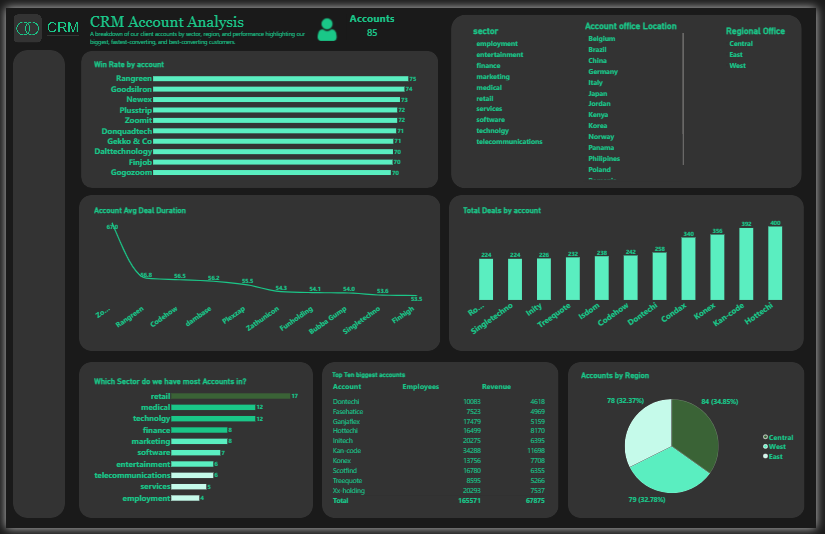

Layout of this report page (visuals, bound fields, positions):
{"tool":"powerbi","page":{"name":"CRM Account Analysis","canvas":[6225,4000],"ordinal":1},"visuals":[{"type":"shape","box":[50,320,400,3600],"z":0},{"type":"textbox","box":[645,35,1715,280],"z":1000},{"type":"shape","box":[560,2720,1800,1200],"z":2000},{"type":"shape","box":[3410,1440,2730,1200],"z":3000},{"type":"image","box":[45,0,555,315],"z":4000},{"type":"shape","box":[560,1440,2780,1200],"z":5000},{"type":"shape","box":[2430,2720,1820,1200],"z":6000},{"type":"shape","box":[4320,2720,1820,1200],"z":7000},{"type":"shape","box":[560,315,2780,1085],"z":8000},{"type":"actionButton","box":[2360,35,260,215],"z":9000},{"type":"cardVisual","fields":{"Data":["crmsalesopportunities crmeqsales_pipeline.Total Accounts"]},"box":[2620,0,385,255],"z":10000},{"type":"barChart","title":"Which Sector do we have most Accounts in?","fields":{"Category":["crmsalesopportunities crmeqaccount.sector"],"Y":["crmsalesopportunities crmeqsales_pipeline.Total Accounts"]},"box":[660,2820,1600,1020],"z":11000},{"type":"tableEx","title":"Top Ten biggest accounts","fields":{"Values":["crmsalesopportunities crmeqaccount.account","crmsalesopportunities crmeqaccount.employees","crmsalesopportunities crmeqaccount.revenue"]},"box":[2490,2776.7,1673.3,1103.3],"z":12000},{"type":"lineChart","title":"Account Avg Deal Duration","fields":{"Category":["crmsalesopportunities crmeqaccount.account"],"Y":["crmsalesopportunities crmeqaccount.Account Avg Deal Duration"]},"box":[660,1510,2615,1050],"z":13000},{"type":"pieChart","title":"Accounts by Region","fields":{"Category":["crmsalesopportunities cremqsales_team.regional_office"],"Y":["crmsalesopportunities crmeqsales_pipeline.Total Accounts"]},"box":[4405,2775,1675,1105],"z":14000},{"type":"columnChart","fields":{"Category":["crmsalesopportunities crmeqaccount.account"],"Y":["crmsalesopportunities crmeqsales_pipeline.Total Deals"]},"box":[3500,1510,2580,1050],"z":15000},{"type":"barChart","fields":{"Category":["crmsalesopportunities crmeqaccount.account"],"Y":["crmsalesopportunities crmeqsales_pipeline.Win Rate"]},"box":[660,385,2580,950],"z":16000},{"type":"shape","box":[3410,35,2730,1365],"z":17000},{"type":"listSlicer","fields":{"Values":["crmsalesopportunities crmeqaccount.sector"]},"box":[3580,120,803.3,996.7],"z":18000},{"type":"listSlicer","fields":{"Values":["crmsalesopportunities crmeqaccount.office_location"]},"box":[4440,85,790,1250],"z":19000},{"type":"listSlicer","fields":{"Values":["crmsalesopportunities cremqsales_team.regional_office"]},"box":[5520,120,560,405],"z":20000}]}

Visuals, with their boxes in screenshot pixels (x1, y1, x2, y2), scaled from the page's 6225x4000 canvas onto the 825x534 screenshot:
shape: detection(7, 43, 60, 523)
textbox: detection(85, 5, 313, 42)
shape: detection(74, 363, 313, 523)
shape: detection(452, 192, 814, 352)
image: detection(6, 0, 80, 42)
shape: detection(74, 192, 443, 352)
shape: detection(322, 363, 563, 523)
shape: detection(573, 363, 814, 523)
shape: detection(74, 42, 443, 187)
actionButton: detection(313, 5, 347, 33)
cardVisual - crmsalesopportunities crmeqsales_pipeline.Total Accounts: detection(347, 0, 398, 34)
"Which Sector do we have most Accounts in?" barChart: detection(87, 376, 300, 513)
"Top Ten biggest accounts" tableEx: detection(330, 371, 552, 518)
"Account Avg Deal Duration" lineChart: detection(87, 202, 434, 342)
"Accounts by Region" pieChart: detection(584, 370, 806, 518)
columnChart - crmsalesopportunities crmeqaccount.account x crmsalesopportunities crmeqsales_pipeline.Total Deals: detection(464, 202, 806, 342)
barChart - crmsalesopportunities crmeqaccount.account x crmsalesopportunities crmeqsales_pipeline.Win Rate: detection(87, 51, 429, 178)
shape: detection(452, 5, 814, 187)
listSlicer - crmsalesopportunities crmeqaccount.sector: detection(474, 16, 581, 149)
listSlicer - crmsalesopportunities crmeqaccount.office_location: detection(588, 11, 693, 178)
listSlicer - crmsalesopportunities cremqsales_team.regional_office: detection(732, 16, 806, 70)
